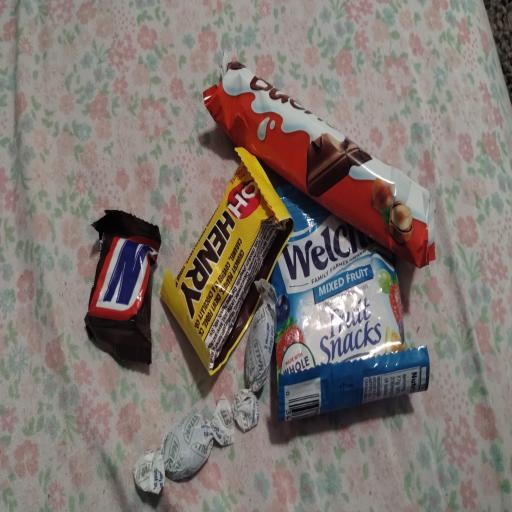chocolate: (204, 55, 434, 266), (272, 186, 429, 420), (161, 148, 293, 374), (85, 211, 160, 363), (133, 396, 234, 493), (245, 280, 275, 391)
